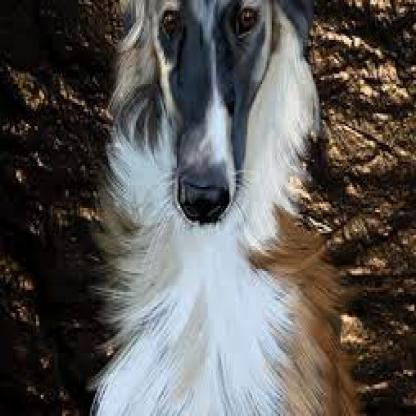Borzoi: (113, 0, 319, 408)
